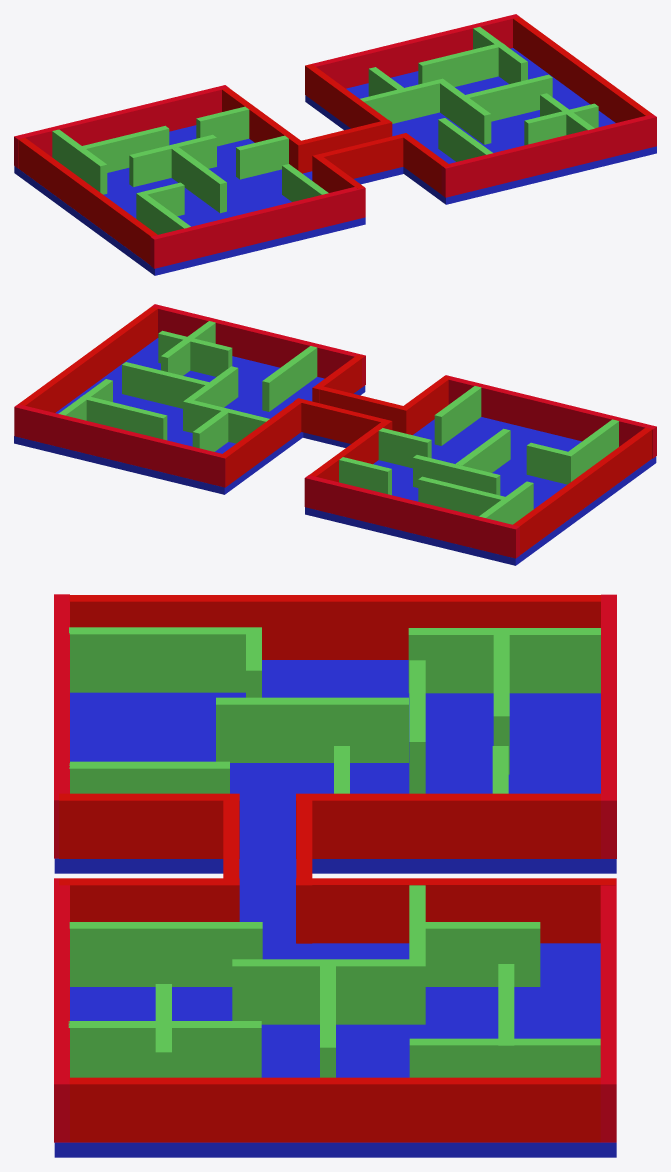
Rendered from map1.fbx.
The picture shows the model from 3 angles, top to bottom: view 1: azimuth 30°, elevation 25°; view 2: azimuth 150°, elevation 25°; view 3: azimuth 270°, elevation 25°; orthographic projection. The views are drawn at different scales.
Parts seen in each view (by area): view 1: Cube, Cube.004, Cube.021, Cube.014, Cube.003, Cube.022, Cube.002, Cube.023, Cube.019, Cube.032, Cube.008, Cube.017 (+22 smaller); view 2: Cube, Cube.014, Cube.003, Cube.022, Cube.004, Cube.002, Cube.021, Cube.023, Cube.019, Cube.029, Cube.018, Cube.032 (+21 smaller); view 3: Cube, Cube.014, Cube.023, Cube.002, Cube.015, Cube.019, Cube.007, Cube.011, Cube.025, Cube.026, Cube.010, Cube.001 (+20 smaller).
Part boxes in pixels (left/top/right/bottom): Cube: left=14, top=125, right=365, bottom=275; Cube.004: left=150, top=187, right=365, bottom=268; Cube.021: left=441, top=114, right=656, bottom=197; Cube.014: left=305, top=48, right=656, bottom=204; Cube.003: left=14, top=85, right=228, bottom=168; Cube.022: left=305, top=14, right=519, bottom=88; Cube.002: left=18, top=138, right=157, bottom=264; Cube.023: left=513, top=17, right=652, bottom=122; Cube.019: left=305, top=64, right=391, bottom=137; Cube.032: left=418, top=42, right=505, bottom=86; Cube.008: left=129, top=134, right=216, bottom=187; Cube.017: left=316, top=133, right=409, bottom=178; Cube: left=305, top=417, right=656, bottom=565; Cube.014: left=14, top=338, right=365, bottom=494; Cube.003: left=304, top=475, right=519, bottom=558; Cube.022: left=14, top=404, right=225, bottom=487; Cube.004: left=445, top=375, right=656, bottom=458; Cube.002: left=513, top=427, right=652, bottom=554; Cube.021: left=151, top=304, right=365, bottom=387; Cube.023: left=18, top=307, right=157, bottom=412; Cube.019: left=219, top=398, right=304, bottom=486; Cube.029: left=122, top=362, right=208, bottom=408; Cube.018: left=294, top=398, right=384, bottom=443; Cube.032: left=80, top=396, right=167, bottom=440; Cube: left=54, top=660, right=616, bottom=873; Cube.014: left=54, top=937, right=616, bottom=1157; Cube.023: left=69, top=1077, right=600, bottom=1142; Cube.002: left=69, top=595, right=600, bottom=659; Cube.015: left=296, top=793, right=600, bottom=858; Cube.019: left=296, top=878, right=615, bottom=943; Cube.007: left=216, top=697, right=408, bottom=762; Cube.011: left=69, top=627, right=261, bottom=692; Cube.025: left=69, top=922, right=262, bottom=986; Cube.026: left=232, top=959, right=425, bottom=1024; Cube.010: left=408, top=628, right=600, bottom=693; Cube.001: left=59, top=793, right=239, bottom=858.
Bounding box in the file's own units: 24661 × 1732 × 11966.
